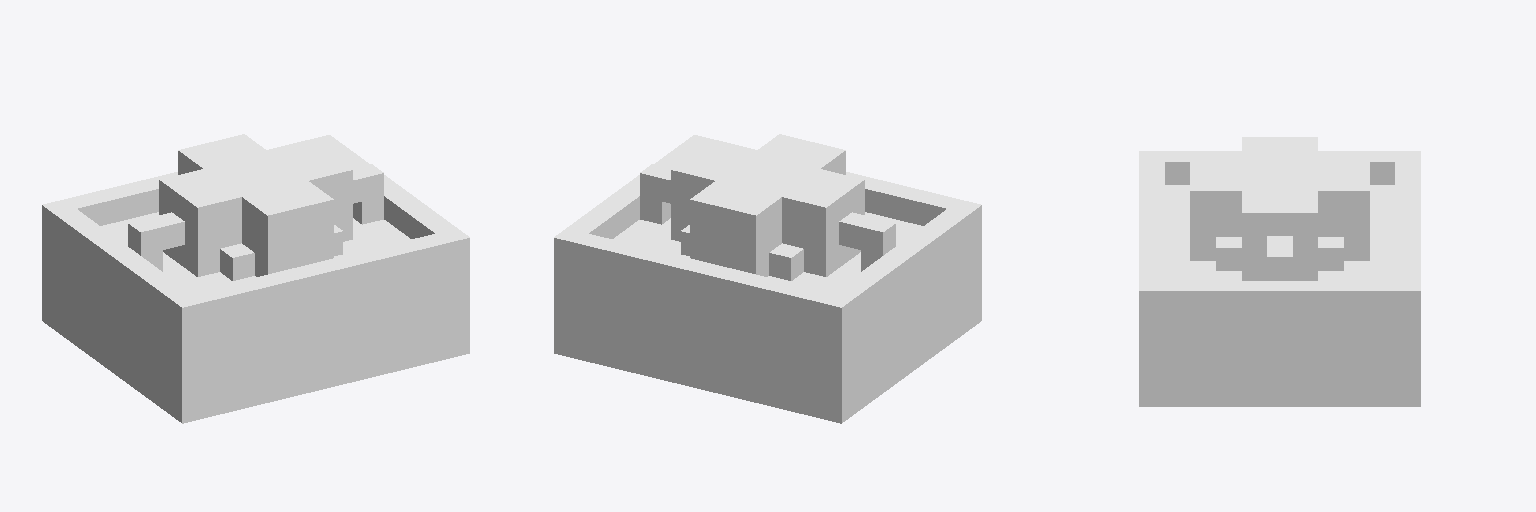
File: shop_health.obj
3 views of the same model, side by side, from view 1: azimuth 30°, elevation 25°; view 2: azimuth 150°, elevation 25°; view 3: azimuth 270°, elevation 25° (orthographic).
Parts seen in each view (by area): view 1: object 1; view 2: object 1; view 3: object 1.
Boxes of the visible parts, x1=… form: object 1: x1=42, y1=134, x2=469, y2=423; object 1: x1=554, y1=134, x2=981, y2=423; object 1: x1=1139, y1=137, x2=1420, y2=406.
Bounding box in the file's own units: 1.3 × 0.7 × 1.1.